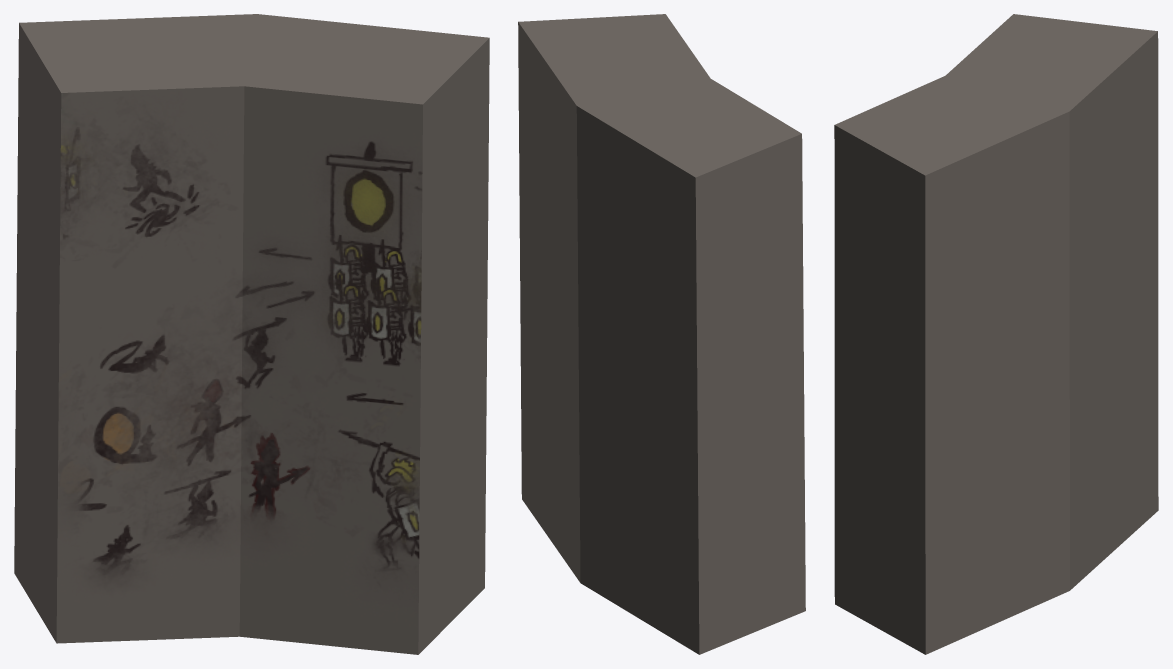
File: PuzzleDoor.obj
The picture shows the model from 3 angles, left to right: view 1: azimuth 30°, elevation 25°; view 2: azimuth 150°, elevation 25°; view 3: azimuth 270°, elevation 25°; orthographic projection. The views are drawn at different scales.
Parts seen in each view (by area): view 1: PuzzleArch:Door PuzzleArch:PuzzleArch1; view 2: PuzzleArch:Door PuzzleArch:PuzzleArch1; view 3: PuzzleArch:Door PuzzleArch:PuzzleArch1.
Part boxes in pixels (left/top/right/bottom): PuzzleArch:Door PuzzleArch:PuzzleArch1: left=14, top=14, right=489, bottom=654; PuzzleArch:Door PuzzleArch:PuzzleArch1: left=518, top=14, right=805, bottom=654; PuzzleArch:Door PuzzleArch:PuzzleArch1: left=834, top=14, right=1158, bottom=654.
Size of the model in its own units: 4.07 by 5.59 by 3.41.
